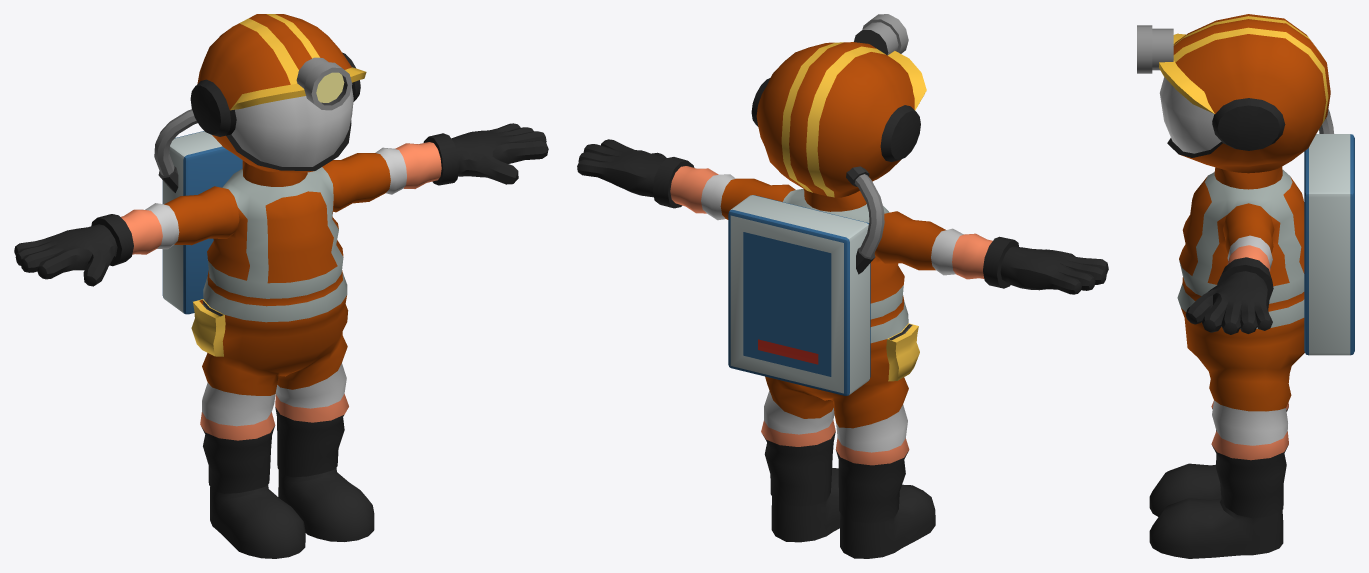
File: M_Worker.fbx
3 renders of one model, left to right at view 1: azimuth 30°, elevation 25°; view 2: azimuth 150°, elevation 25°; view 3: azimuth 270°, elevation 25°, orthographic. The views are drawn at different scales.
Visible parts, largest first — view 1: M_Worker; view 2: M_Worker; view 3: M_Worker.
Part boxes in pixels (x1=…): M_Worker: x1=14, y1=14, x2=548, y2=558; M_Worker: x1=577, y1=14, x2=1108, y2=558; M_Worker: x1=1137, y1=14, x2=1354, y2=558.
Size of the model in its own units: 255 by 228 by 89.33.
Materials: 2 (1 with a texture image).
